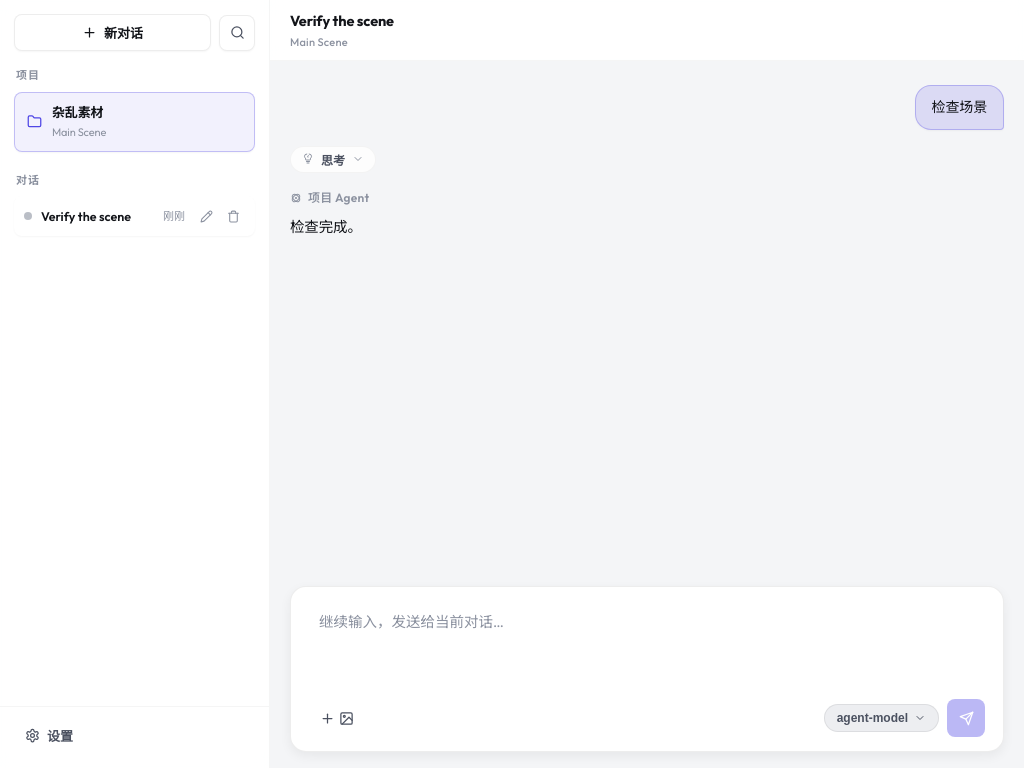
Test: AgentWindow conversation thread › shows the think disclosure for reasoning content and toggles it
expect the text "先读取 scene，再比对资源。" is not shown: met
Step 1. Click the button "思考" → (333, 159), box x1=290 y1=146 x2=376 y2=173
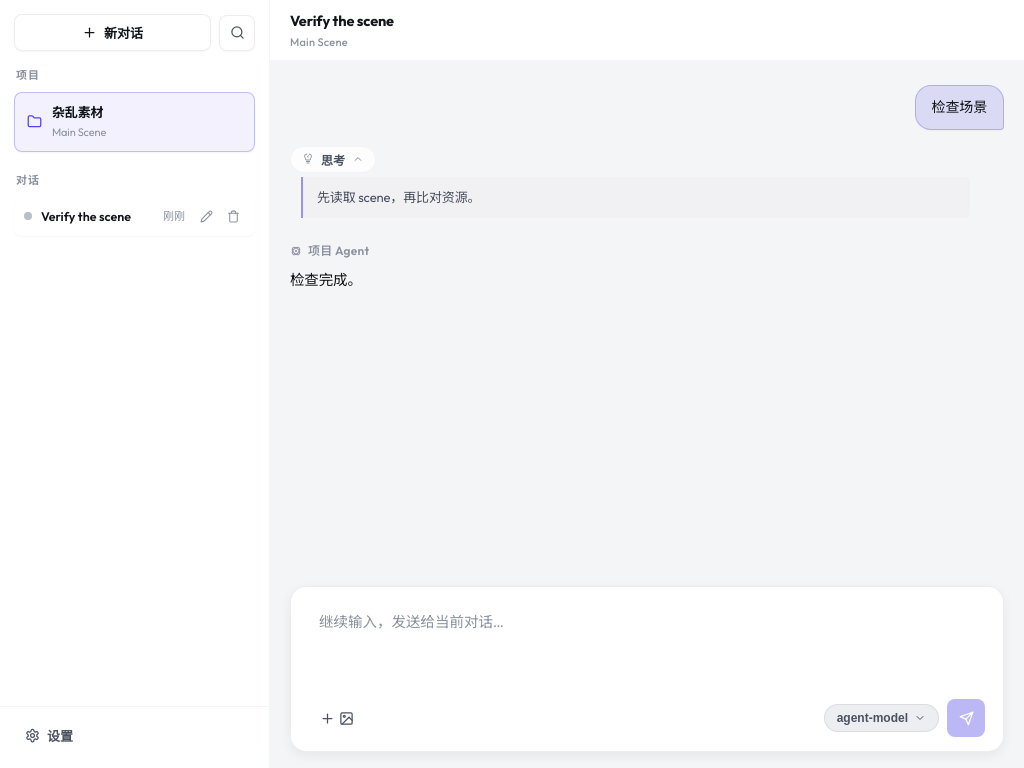
expect the text "先读取 scene，再比对资源。" is shown: met, box x1=301 y1=177 x2=970 y2=218
